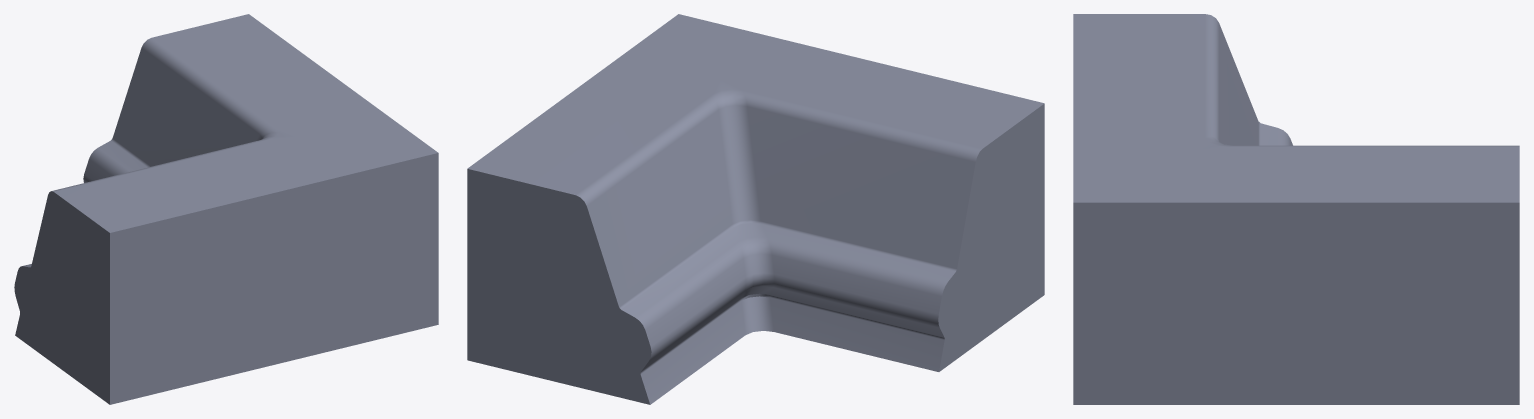
File: WallBigBEVCornerTEST.fbx
3 views of the same model, side by side, from view 1: azimuth 30°, elevation 25°; view 2: azimuth 150°, elevation 25°; view 3: azimuth 270°, elevation 25° (orthographic). The views are drawn at different scales.
Visible parts, largest first — view 1: pCube100; view 2: pCube100; view 3: pCube100.
Boxes of the visible parts, <box> form: pCube100: <box>14,14,438,404</box>; pCube100: <box>467,14,1044,404</box>; pCube100: <box>1073,14,1519,404</box>.
Size of the model in its own units: 2 by 1 by 2.
